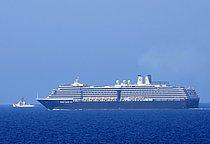Ship: (33, 72, 204, 112)
